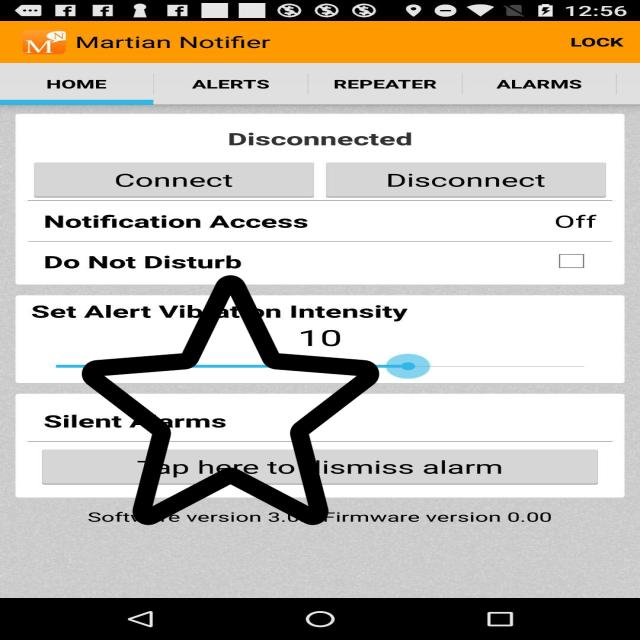forced continuity: (82, 270, 379, 530)
